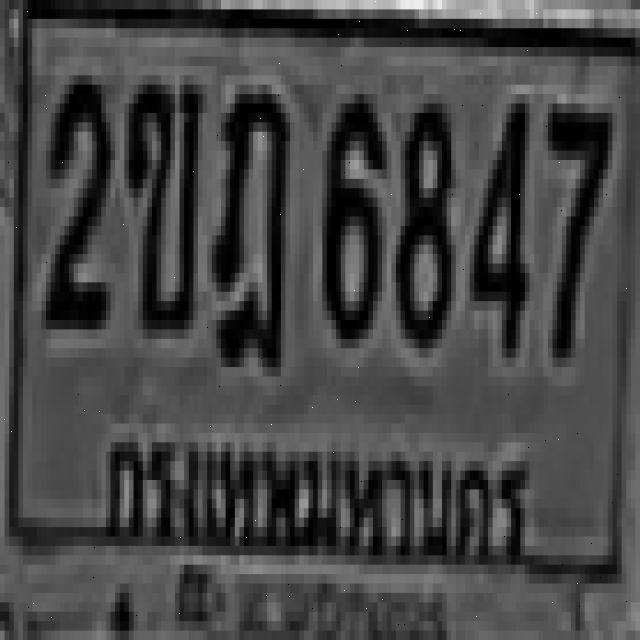11KhorKhai: (124, 76, 198, 330)
2: (41, 66, 106, 320)
23DorChaDa: (208, 85, 286, 358)
4: (470, 94, 526, 348)
6: (318, 85, 382, 339)
7: (544, 99, 608, 353)
8: (392, 94, 452, 338)
Bangkok: (88, 413, 546, 587)
